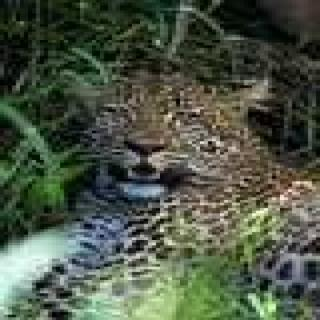Leopard: (61, 48, 320, 299)
